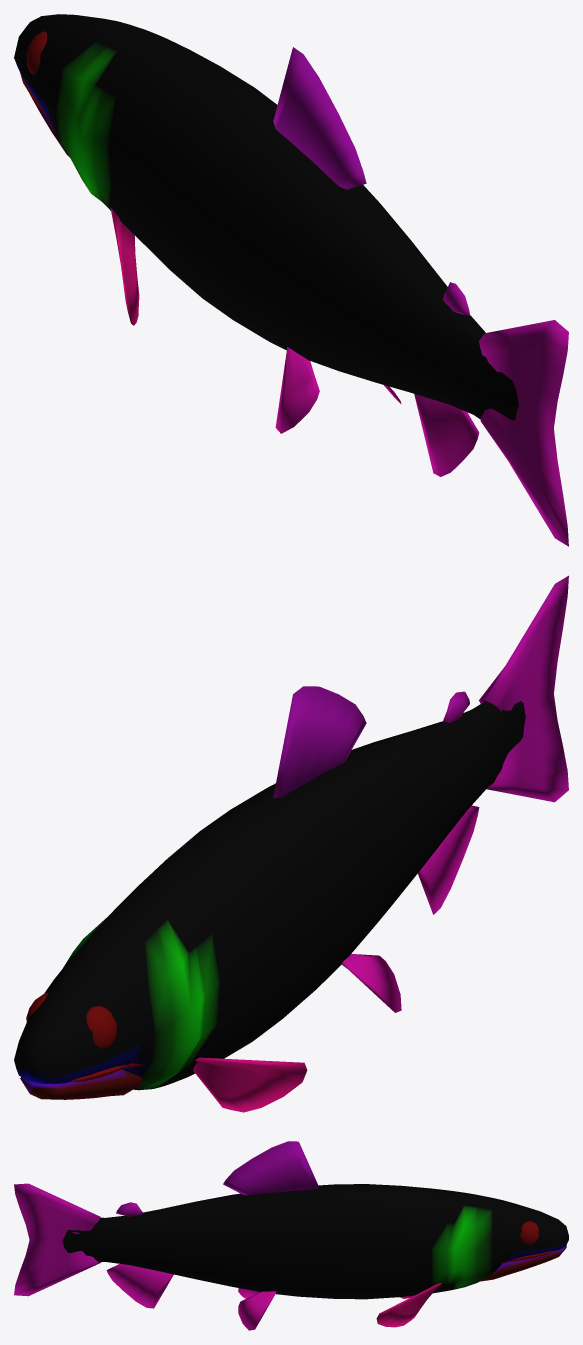
File: cutthroat_trout_game.glb
3 renders of one model, top to bottom at view 1: azimuth 30°, elevation 25°; view 2: azimuth 150°, elevation 25°; view 3: azimuth 270°, elevation 25°, orthographic. The views are drawn at different scales.
Visible parts, largest first — view 1: cutthroat_trout_game; view 2: cutthroat_trout_game; view 3: cutthroat_trout_game.
Boxes of the visible parts, x1=… form: cutthroat_trout_game: x1=14, y1=14, x2=568, y2=546; cutthroat_trout_game: x1=14, y1=575, x2=568, y2=1112; cutthroat_trout_game: x1=14, y1=1141, x2=568, y2=1330.
Bounding box in the file's own units: 0.0767 × 0.1379 × 0.3984.
